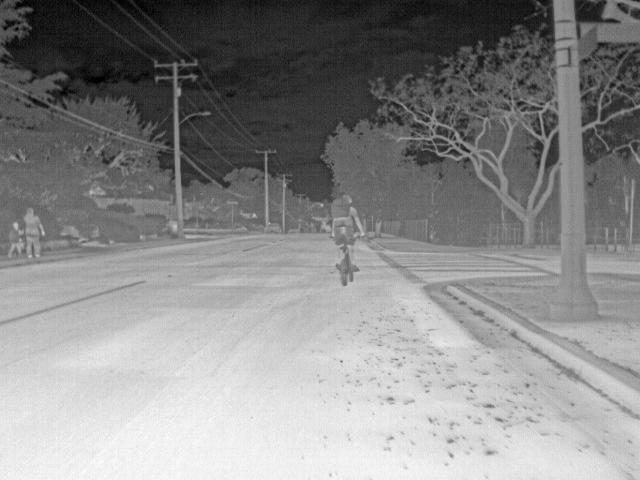car: (265, 222, 282, 236)
person: (331, 193, 366, 272), (22, 204, 45, 260), (6, 220, 23, 260)
